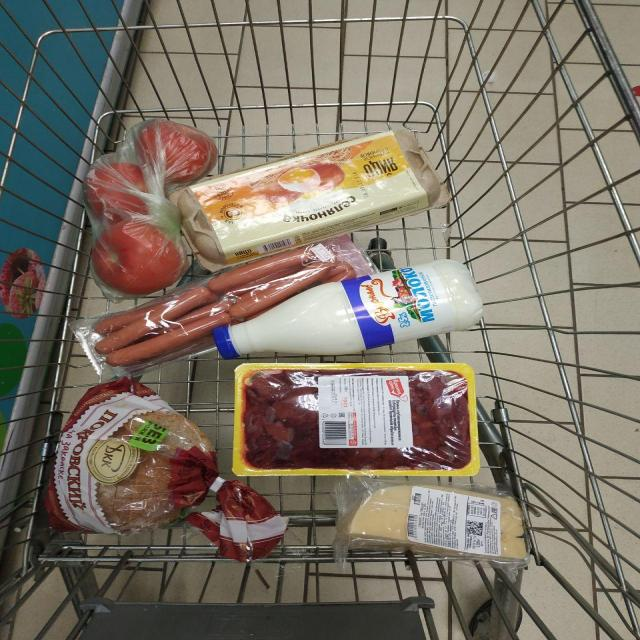cheese: (261, 251, 640, 640)
egg: (157, 121, 601, 326)
milk: (154, 182, 548, 525)
tomato: (94, 131, 279, 383), (68, 110, 218, 323), (112, 84, 324, 222)
